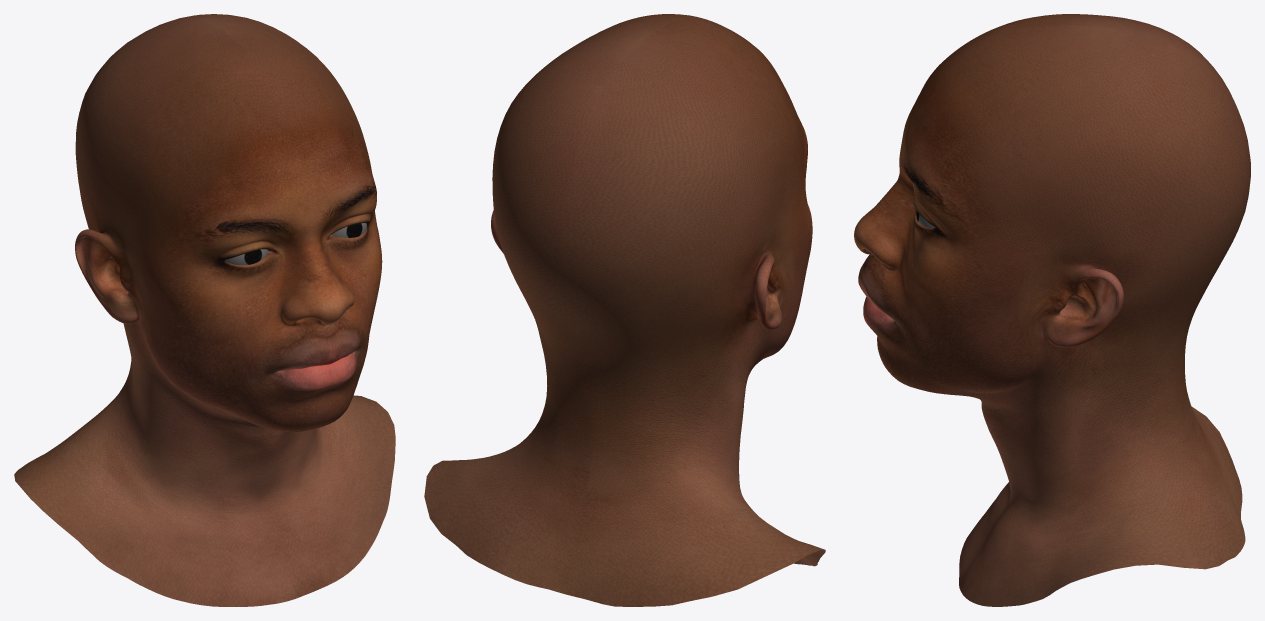
3 renders of one model, left to right at view 1: azimuth 30°, elevation 25°; view 2: azimuth 150°, elevation 25°; view 3: azimuth 270°, elevation 25°, orthographic. The views are drawn at different scales.
Visible parts, largest first — view 1: Registered head; view 2: Registered head; view 3: Registered head.
Part boxes in pixels (box(x1,y1,x2,y2)): Registered head: box(14, 14, 395, 606); Registered head: box(424, 14, 825, 606); Registered head: box(854, 14, 1250, 606).
Size of the model in its own units: 1.3 by 1.83 by 1.2.
3 materials, 3 textured.
